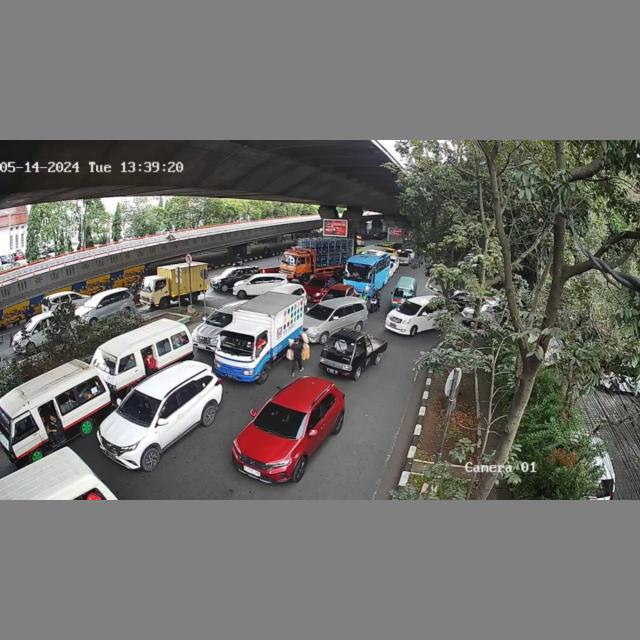windshield: (259, 400, 309, 440), (113, 391, 164, 423), (217, 331, 267, 358), (88, 349, 119, 375), (323, 336, 355, 357), (307, 303, 333, 321), (206, 311, 232, 325), (397, 303, 422, 314)
